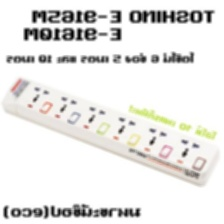three_eye_plug: (0, 74, 221, 187)
